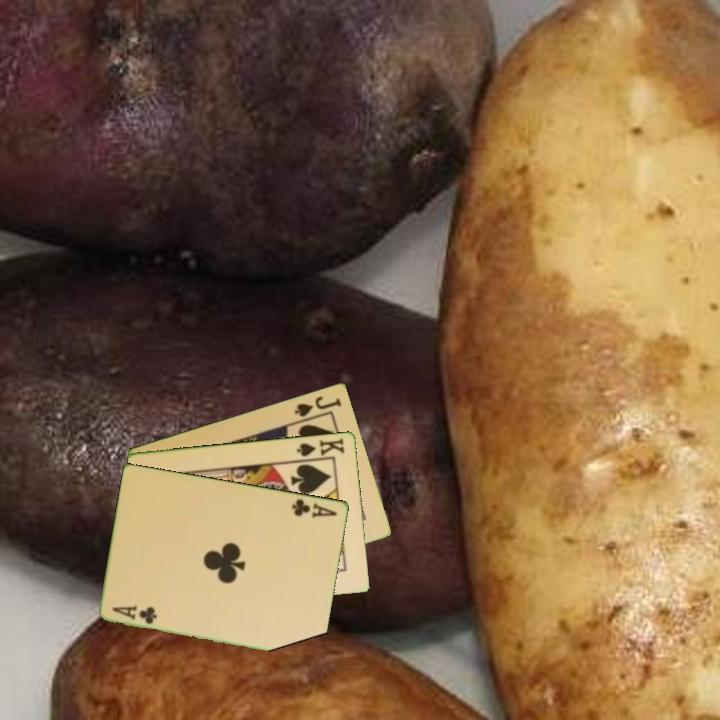Ac: (109, 601, 160, 627), (288, 495, 340, 520)
Js: (291, 392, 344, 419)
Ks: (293, 434, 347, 462)
